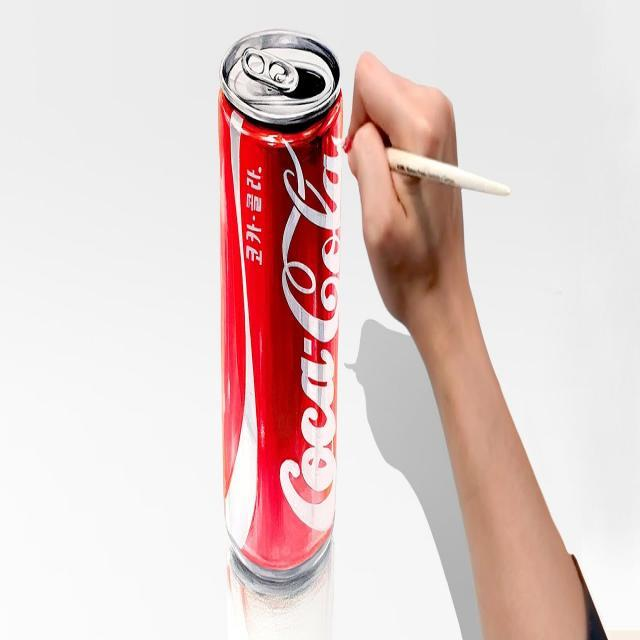coca-cola: (218, 26, 346, 586)
